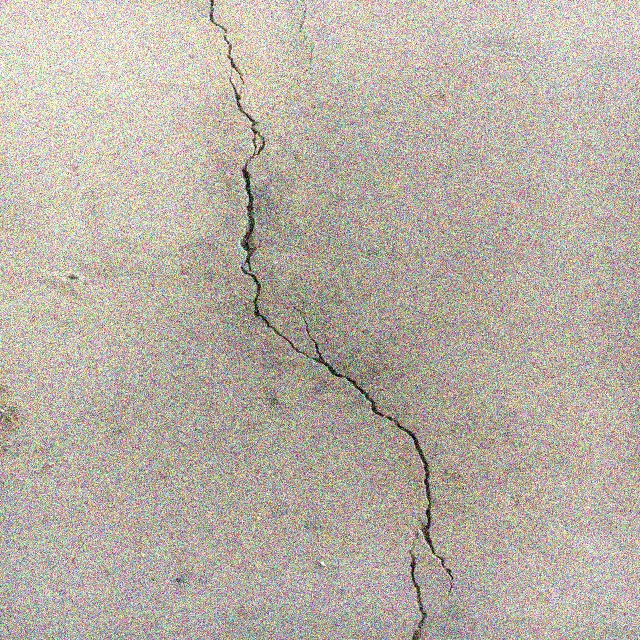SurfaceCrack: (159, 1, 476, 640)
